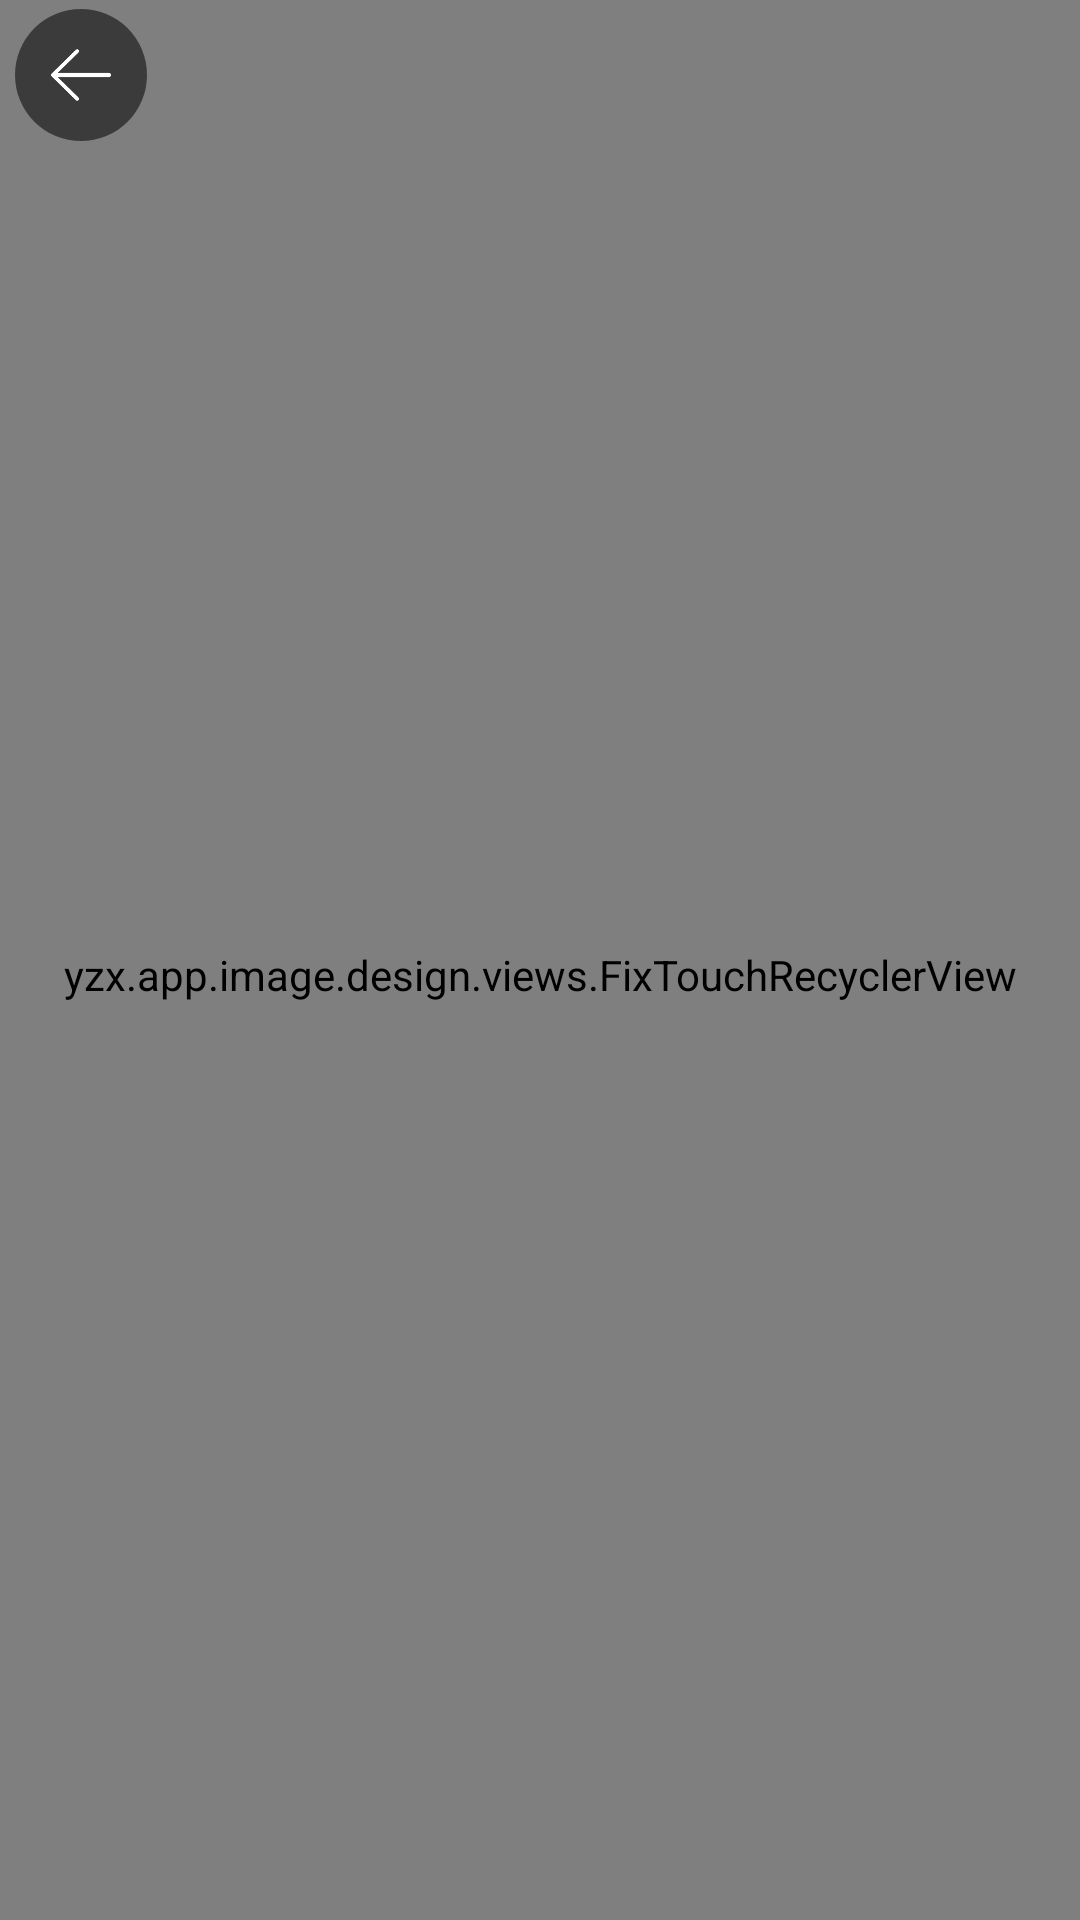

Where icons sit on this 1080x1920 app screen, as region(x1, y1, x2, y2):
back: region(15, 9, 147, 141)
